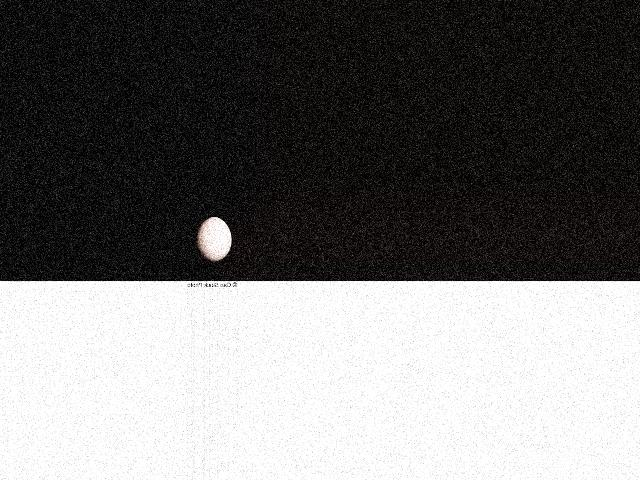egg: (196, 217, 230, 262)
